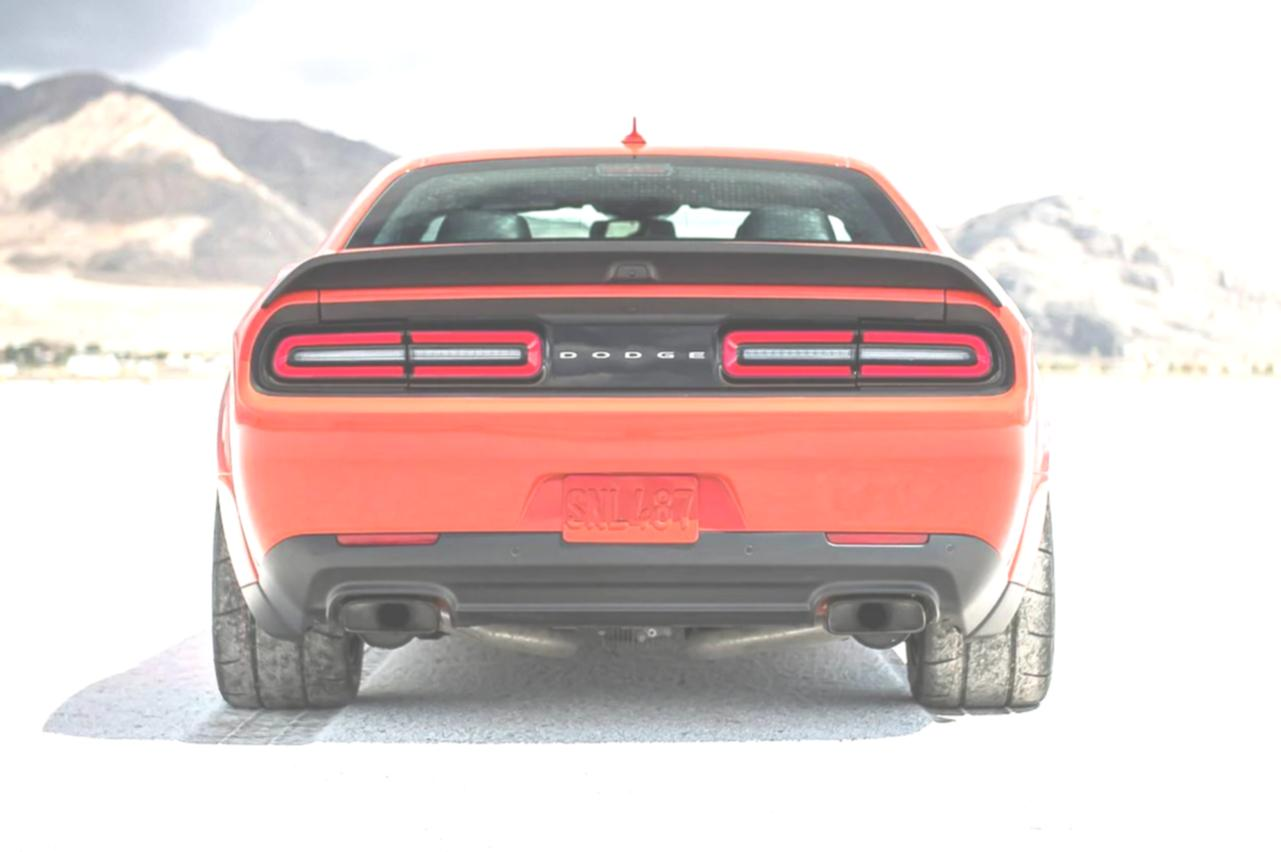dodge: (544, 337, 729, 377)
